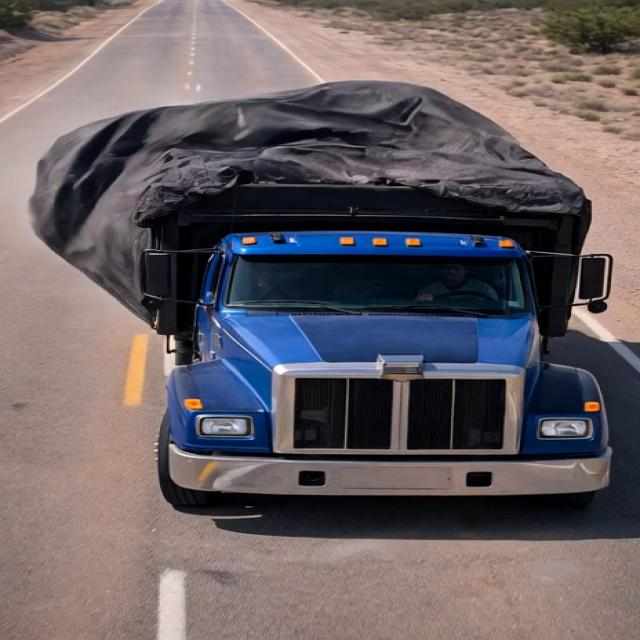Box: (39, 80, 604, 212)
Truck: (15, 62, 626, 516)
